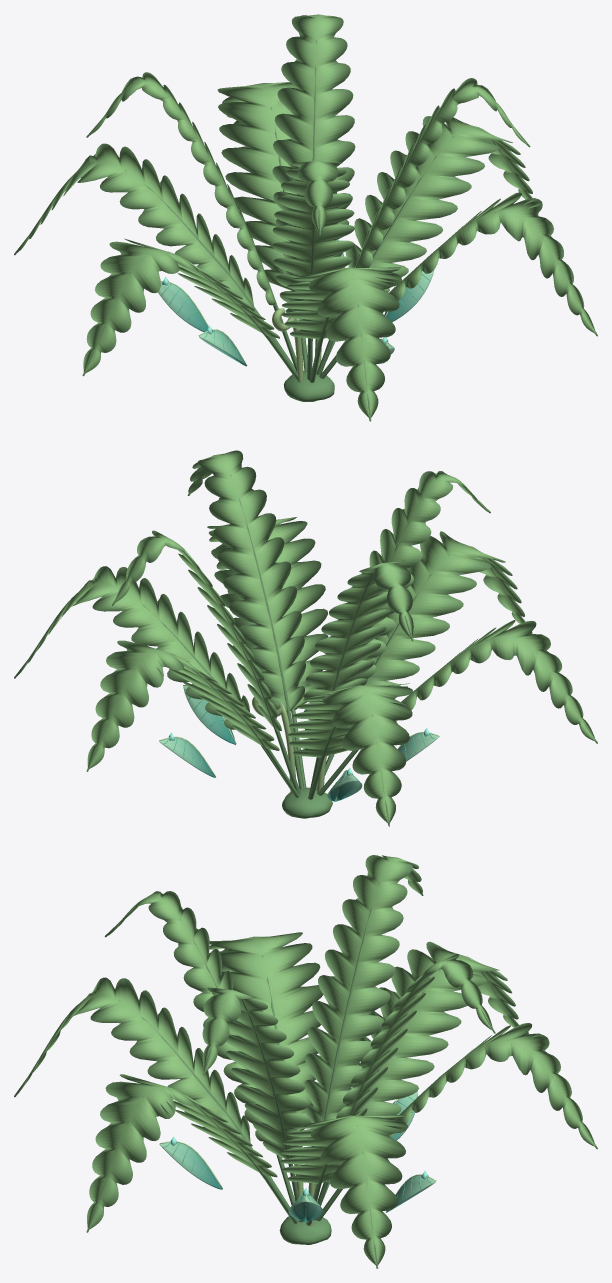
Rendered from enchanted-fern.glb.
The picture shows the model from 3 angles, top to bottom: view 1: azimuth 30°, elevation 25°; view 2: azimuth 150°, elevation 25°; view 3: azimuth 270°, elevation 25°; orthographic projection. The views are drawn at different scales.
Visible parts, largest first — view 1: fern_body, enchanted-fern-sculpted-details; view 2: fern_body, enchanted-fern-sculpted-details; view 3: fern_body, enchanted-fern-sculpted-details.
Boxes of the visible parts, bbox=[...] form: fern_body: bbox=[14, 14, 597, 421]; enchanted-fern-sculpted-details: bbox=[158, 239, 433, 366]; fern_body: bbox=[14, 450, 597, 826]; enchanted-fern-sculpted-details: bbox=[159, 685, 439, 801]; fern_body: bbox=[14, 855, 597, 1268]; enchanted-fern-sculpted-details: bbox=[159, 1091, 436, 1222].
Size of the model in its own units: 2.2 by 1.25 by 2.09.
Materials: 2 (1 with a texture image).
